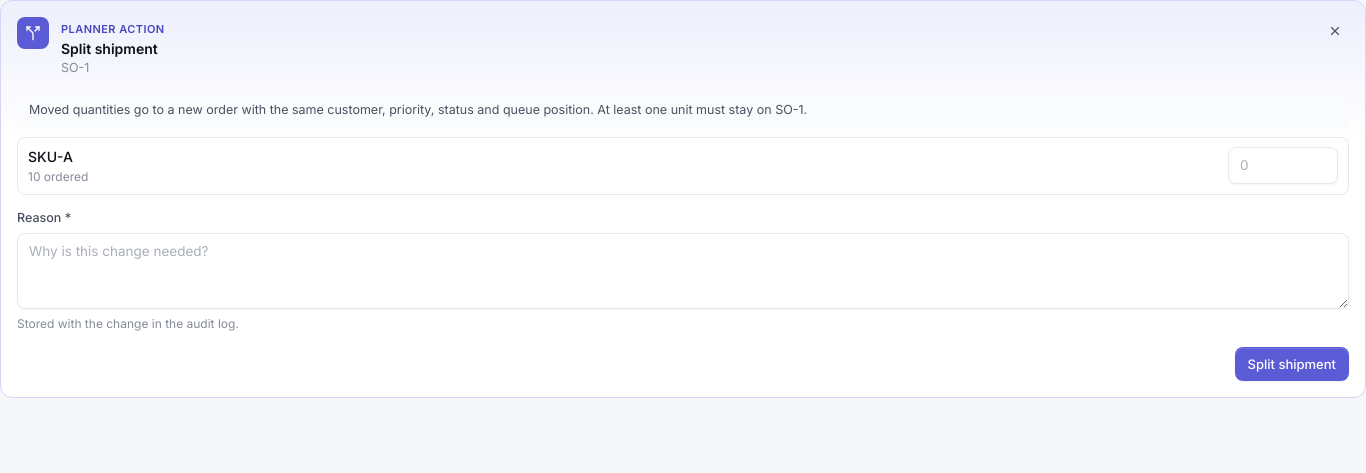
OrderPlannerPanel › shows the backend error when the action is rejected
This screenshot has width=1366, height=473.
Type "4" into the number field named "Units of SKU-A to move" at (1283, 166), box 1228,147 -> 1338,184
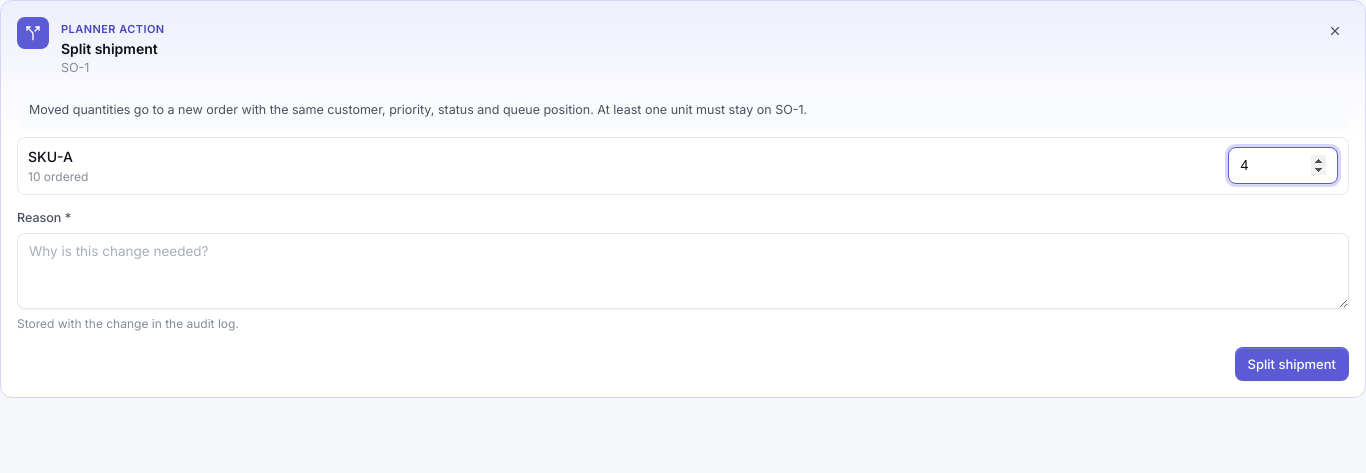
Type "Ship what we have" into the text box labelled "Reason * Stored with the change in the audit log." at (683, 271), box 17,233 -> 1349,309
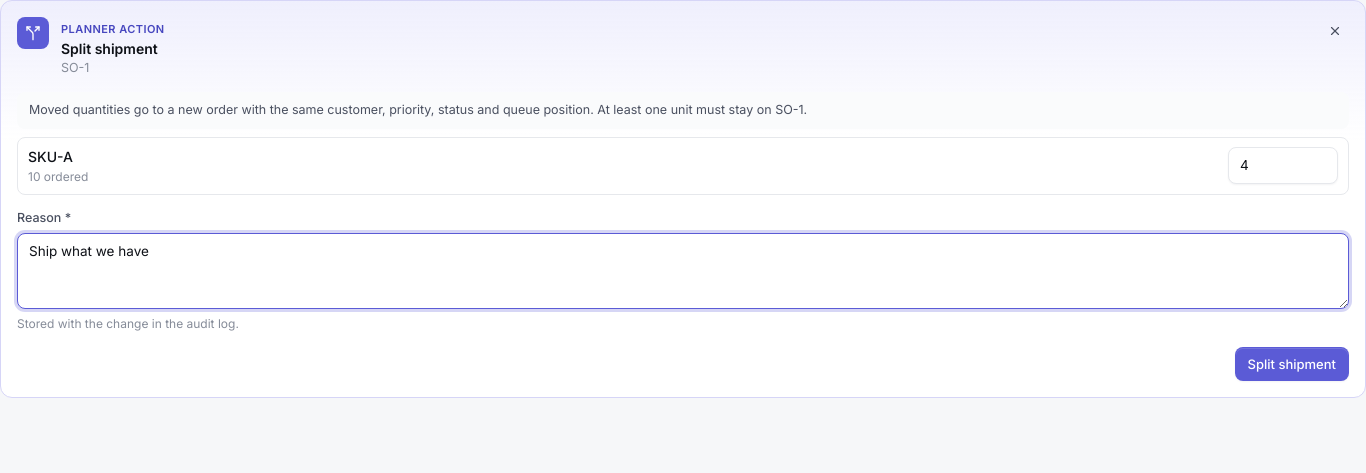
Click the button "Split shipment" at (1292, 364), box 1235,347 -> 1349,381
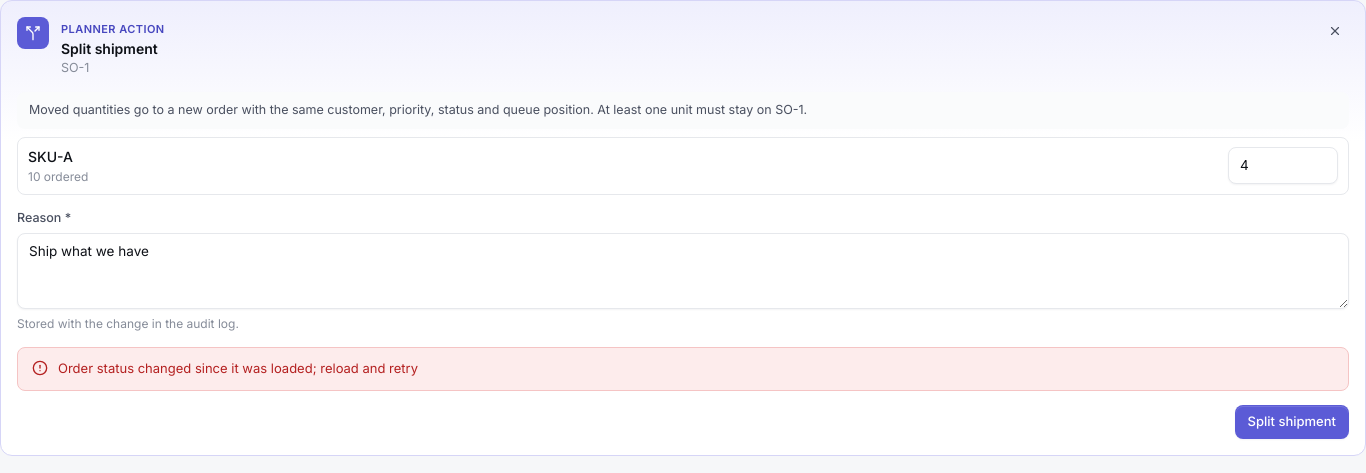
Result: the text "Order status changed since it was loaded; reload and retry" is shown at 58,360 -> 418,376
